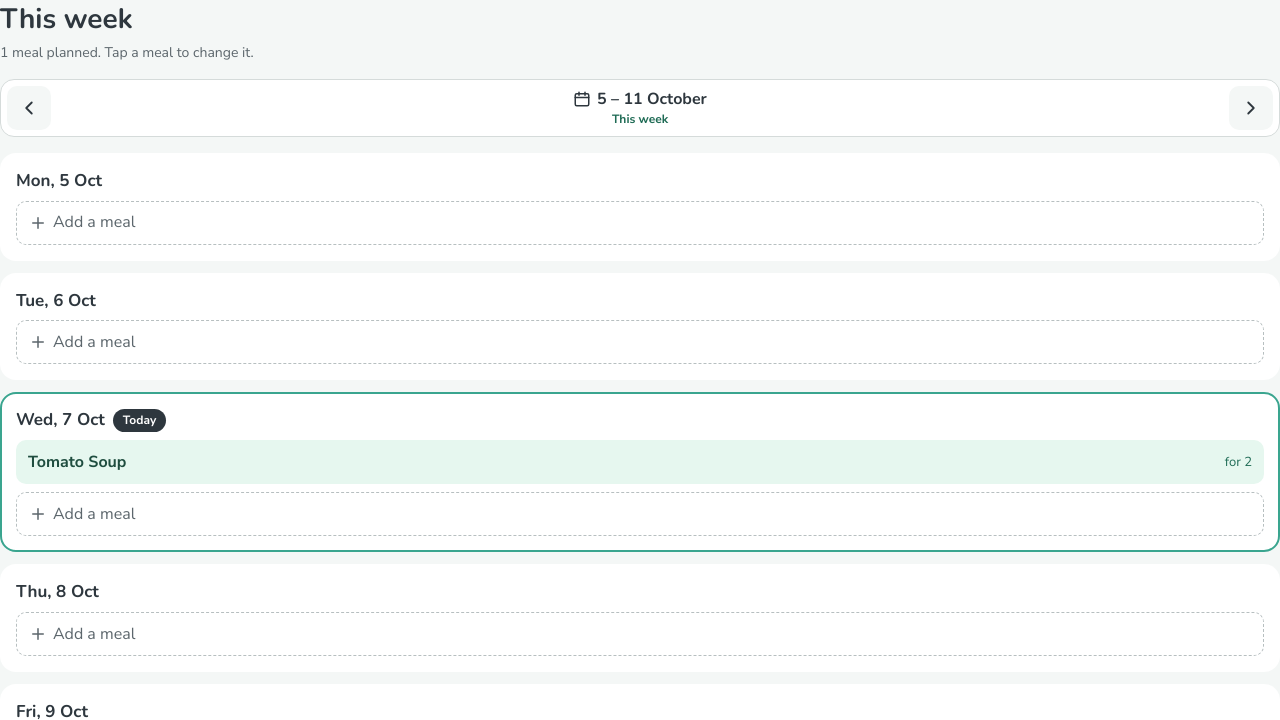
Test case: WeekPage › changes servings and removes a meal from the meal sheet, then reloads the week
Click the button "Tomato Soup for 2".
click(77, 462)  # box [16, 440, 1264, 484]
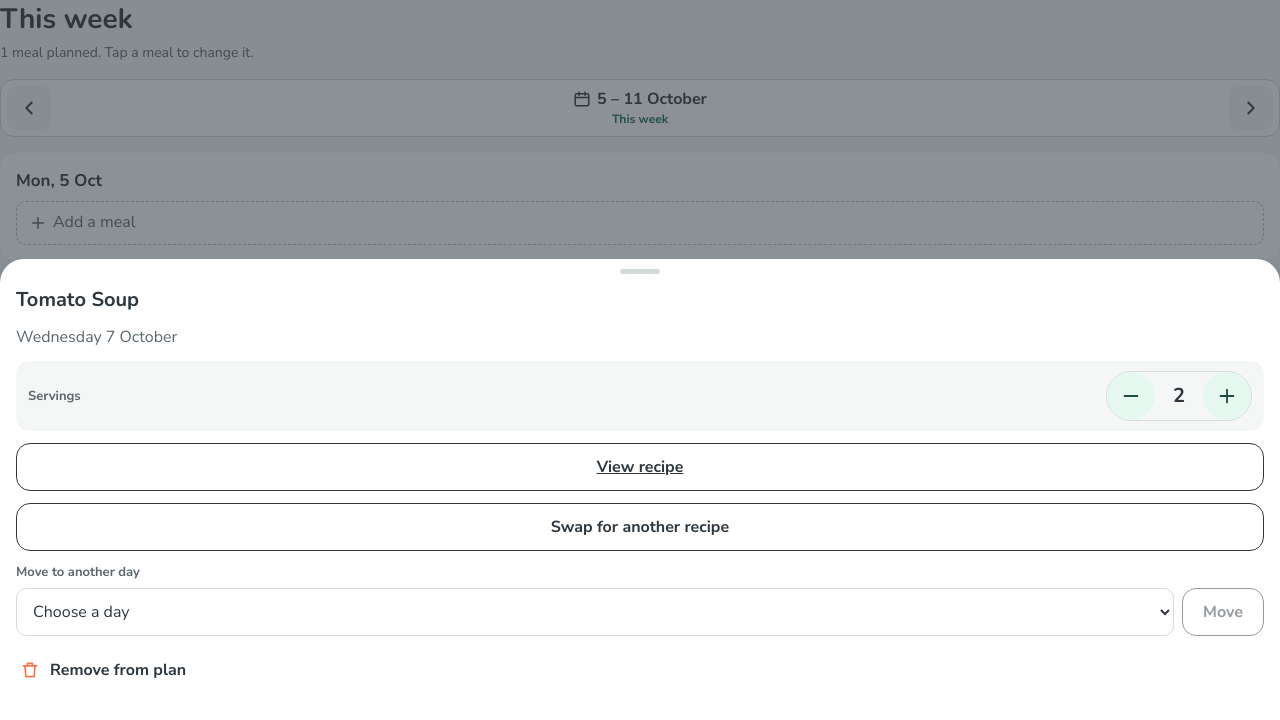
Click the button named "More servings".
click(1227, 396)  # box [1203, 372, 1251, 420]
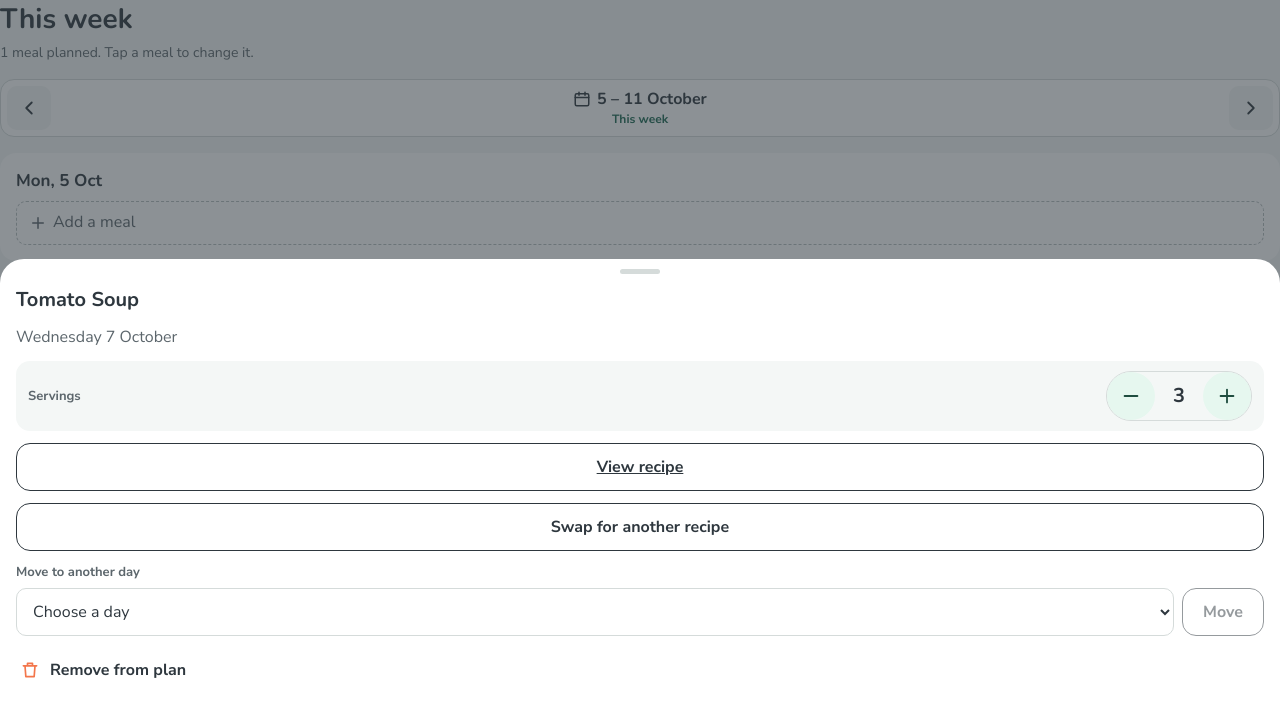
Expected: the text "3" is shown, [1173, 382, 1185, 409]
Click the button "Remove from plan".
click(118, 670)  # box [16, 648, 1264, 692]
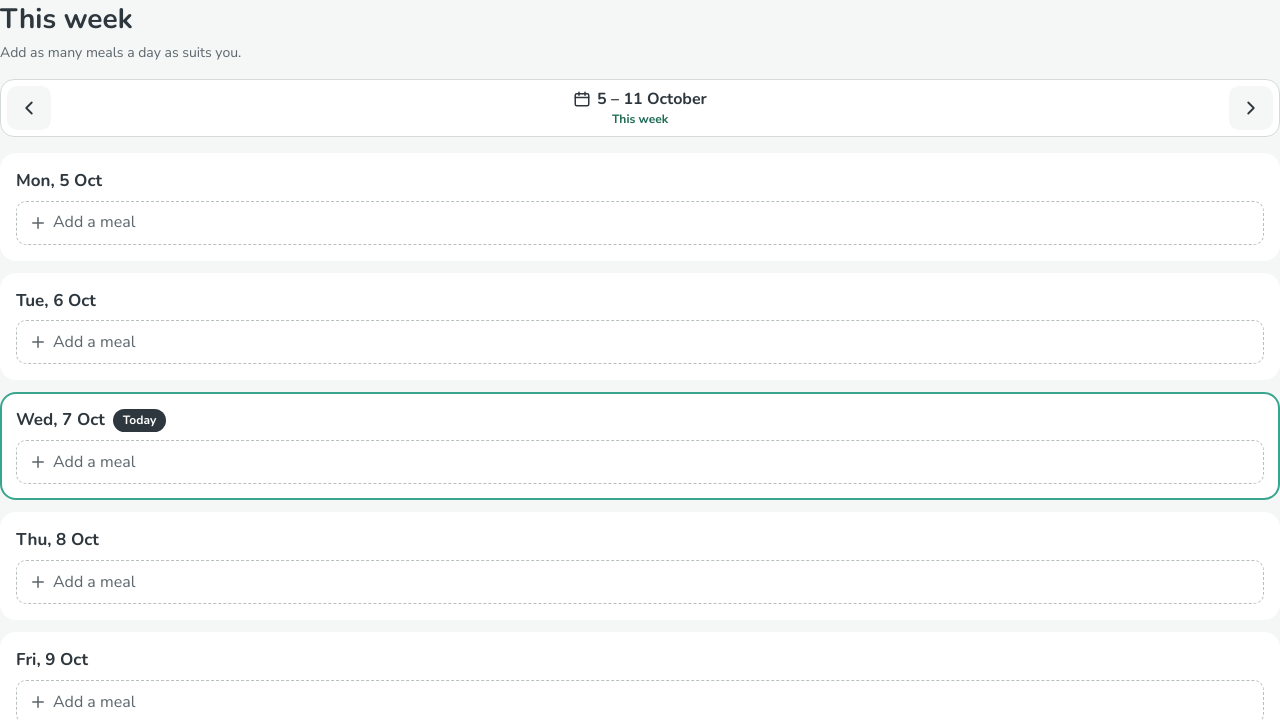
Expected: the text "Add as many meals a day as suits you." is shown, [0, 43, 241, 62]
Expected: the dialog is gone
